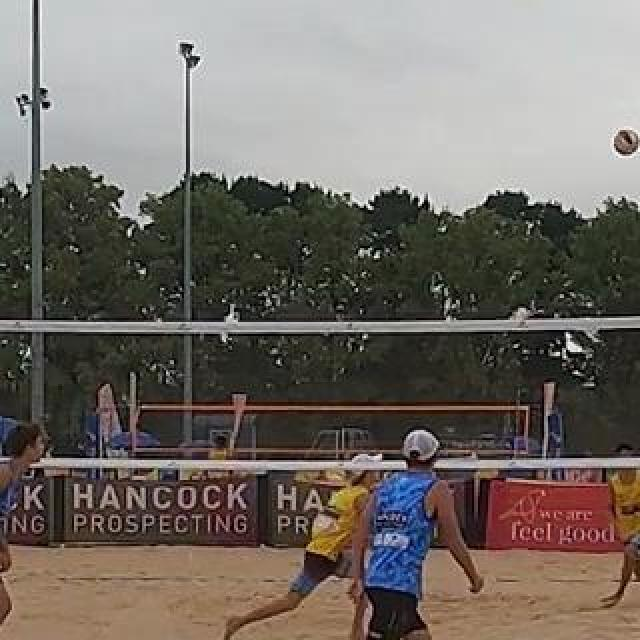volleyball: (611, 127, 639, 157)
